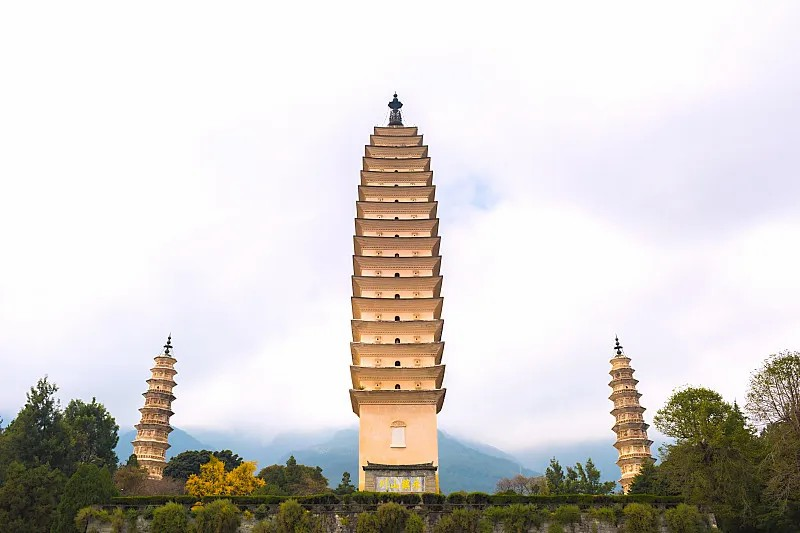ThreePagoda: (349, 91, 446, 494)
